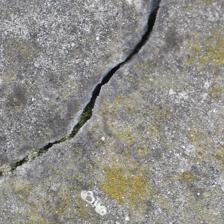Crack: (2, 3, 160, 177)
